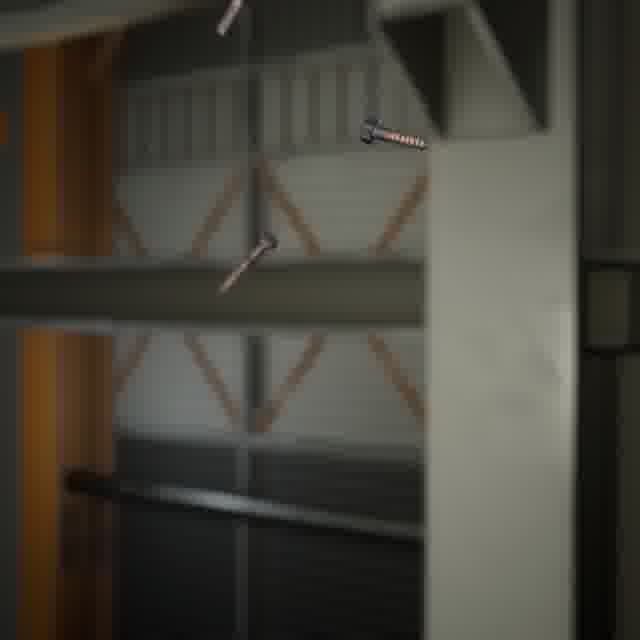bolt: (212, 225, 282, 299), (356, 111, 434, 154), (209, 0, 252, 42)
